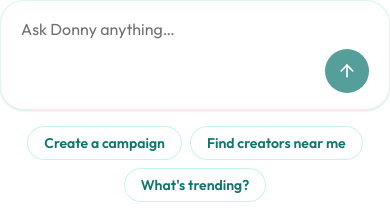
Scenario: DonnyHomePrompt — composing a multi-line prompt › sends the trimmed text and clears when the send button is clicked
The width and height of the screenshot is (390, 219).
Step 1. Type "  click to send  " into the text box labelled "Ask Donny anything…" → [195, 29], box [21,17,369,41]
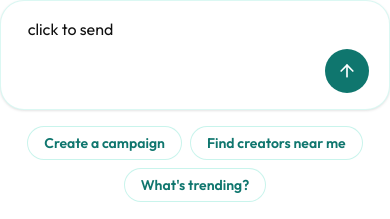
Step 2. Click the button named "send to donny" → [347, 71], box [325,49,369,93]
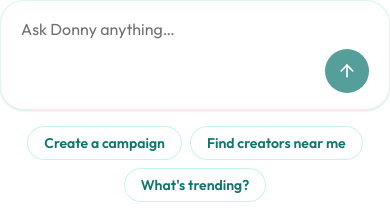
Expected: the text box labelled "Ask Donny anything…" is empty, [21,17,369,41]
